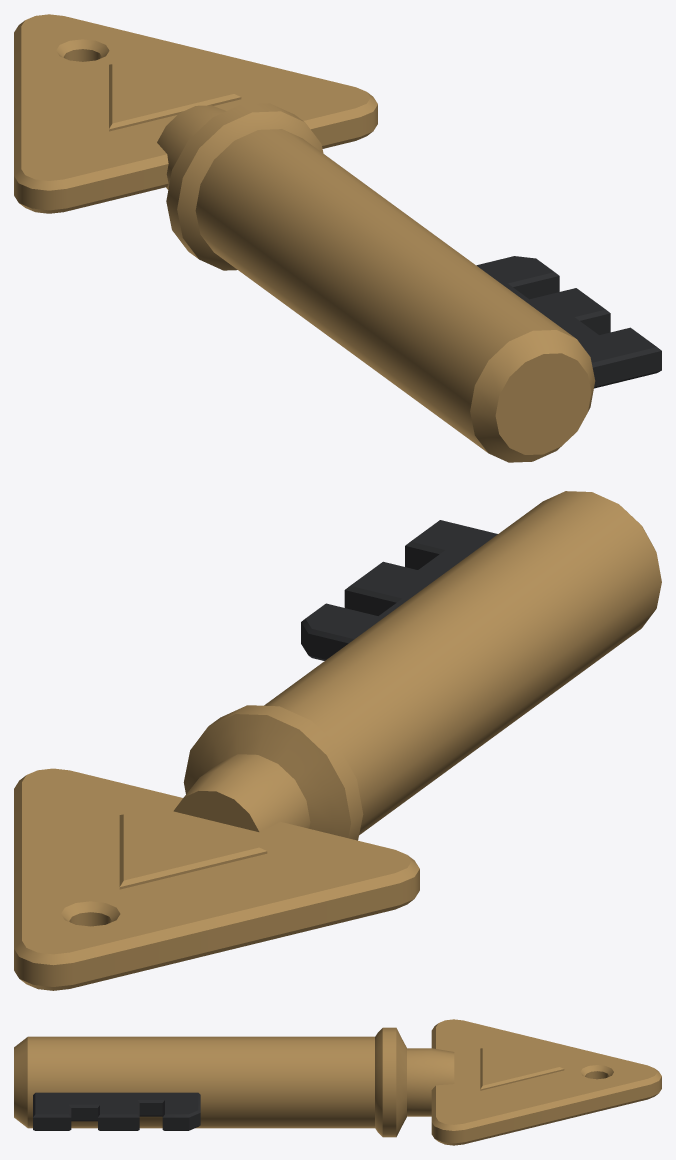
File: key_triangle.glb
3 renders of one model, top to bottom at view 1: azimuth 30°, elevation 25°; view 2: azimuth 150°, elevation 25°; view 3: azimuth 270°, elevation 25°, orthographic. The views are drawn at different scales.
Visible parts, largest first — view 1: key_triangle, key_bit; view 2: key_triangle, key_bit; view 3: key_triangle, key_bit.
Boxes of the visible parts, x1,y1,x2,y2 form: key_triangle: (14,14,595,462); key_bit: (476,256,661,388); key_triangle: (14,491,661,990); key_bit: (301,520,497,660); key_triangle: (14,1019,661,1145); key_bit: (33,1092,200,1130).
Size of the model in its own units: 0.034 by 0.0144 by 0.085.
